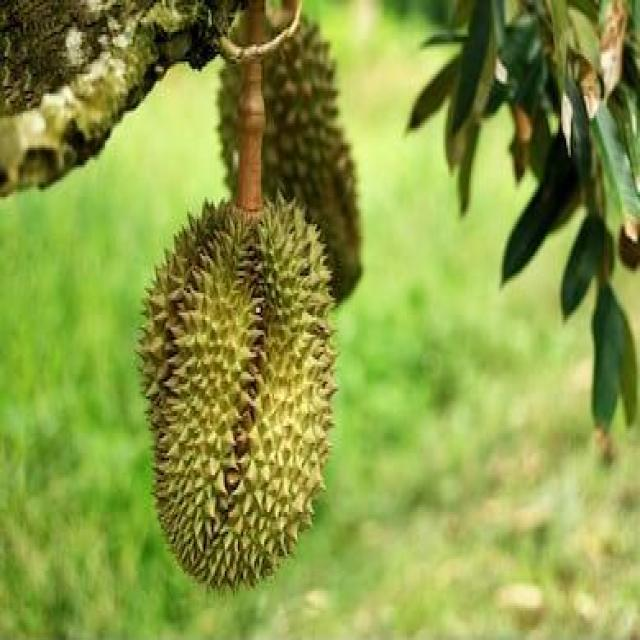defective: (143, 191, 342, 597)
